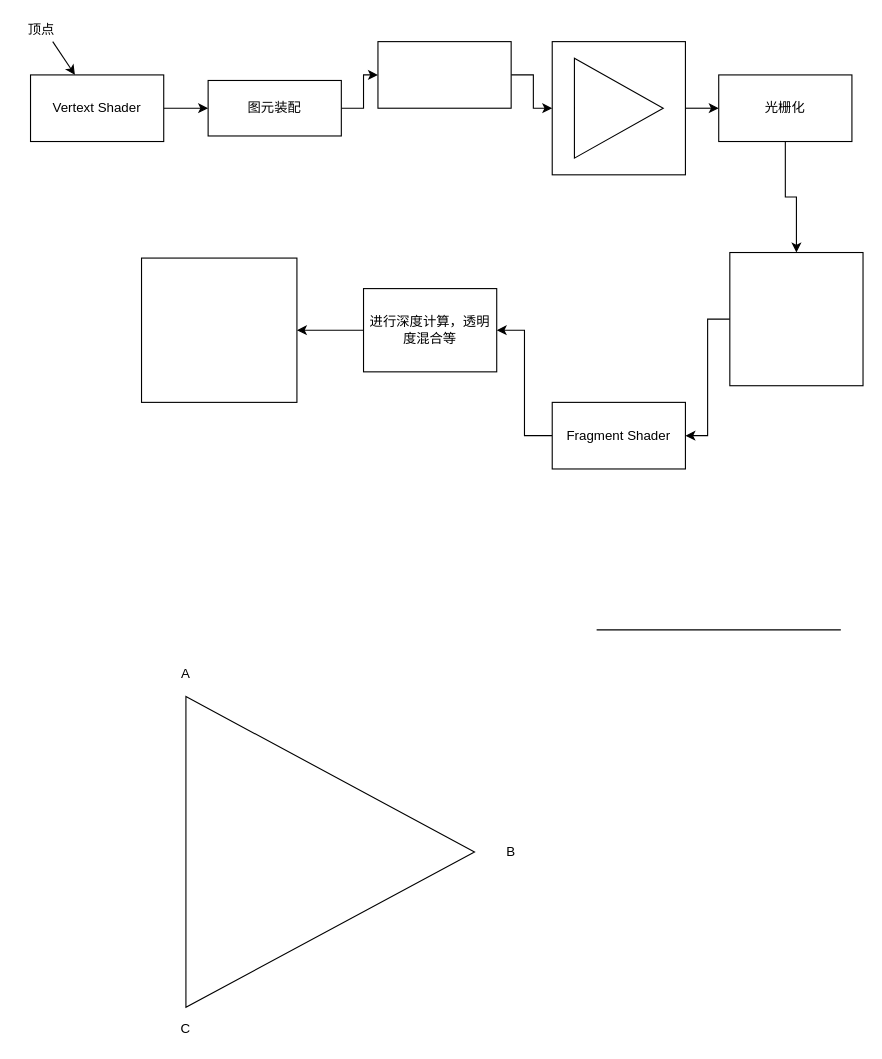
Some shapes in this 882 by 1059 pixel diagram are drawn without their labels. The box of each missing label's shape, as (x1, y1, x2, y2) in pixels:
几何着色器: (377, 41, 511, 108)
栅格化（像素化）: (729, 251, 863, 386)
输出: (140, 257, 297, 402)
